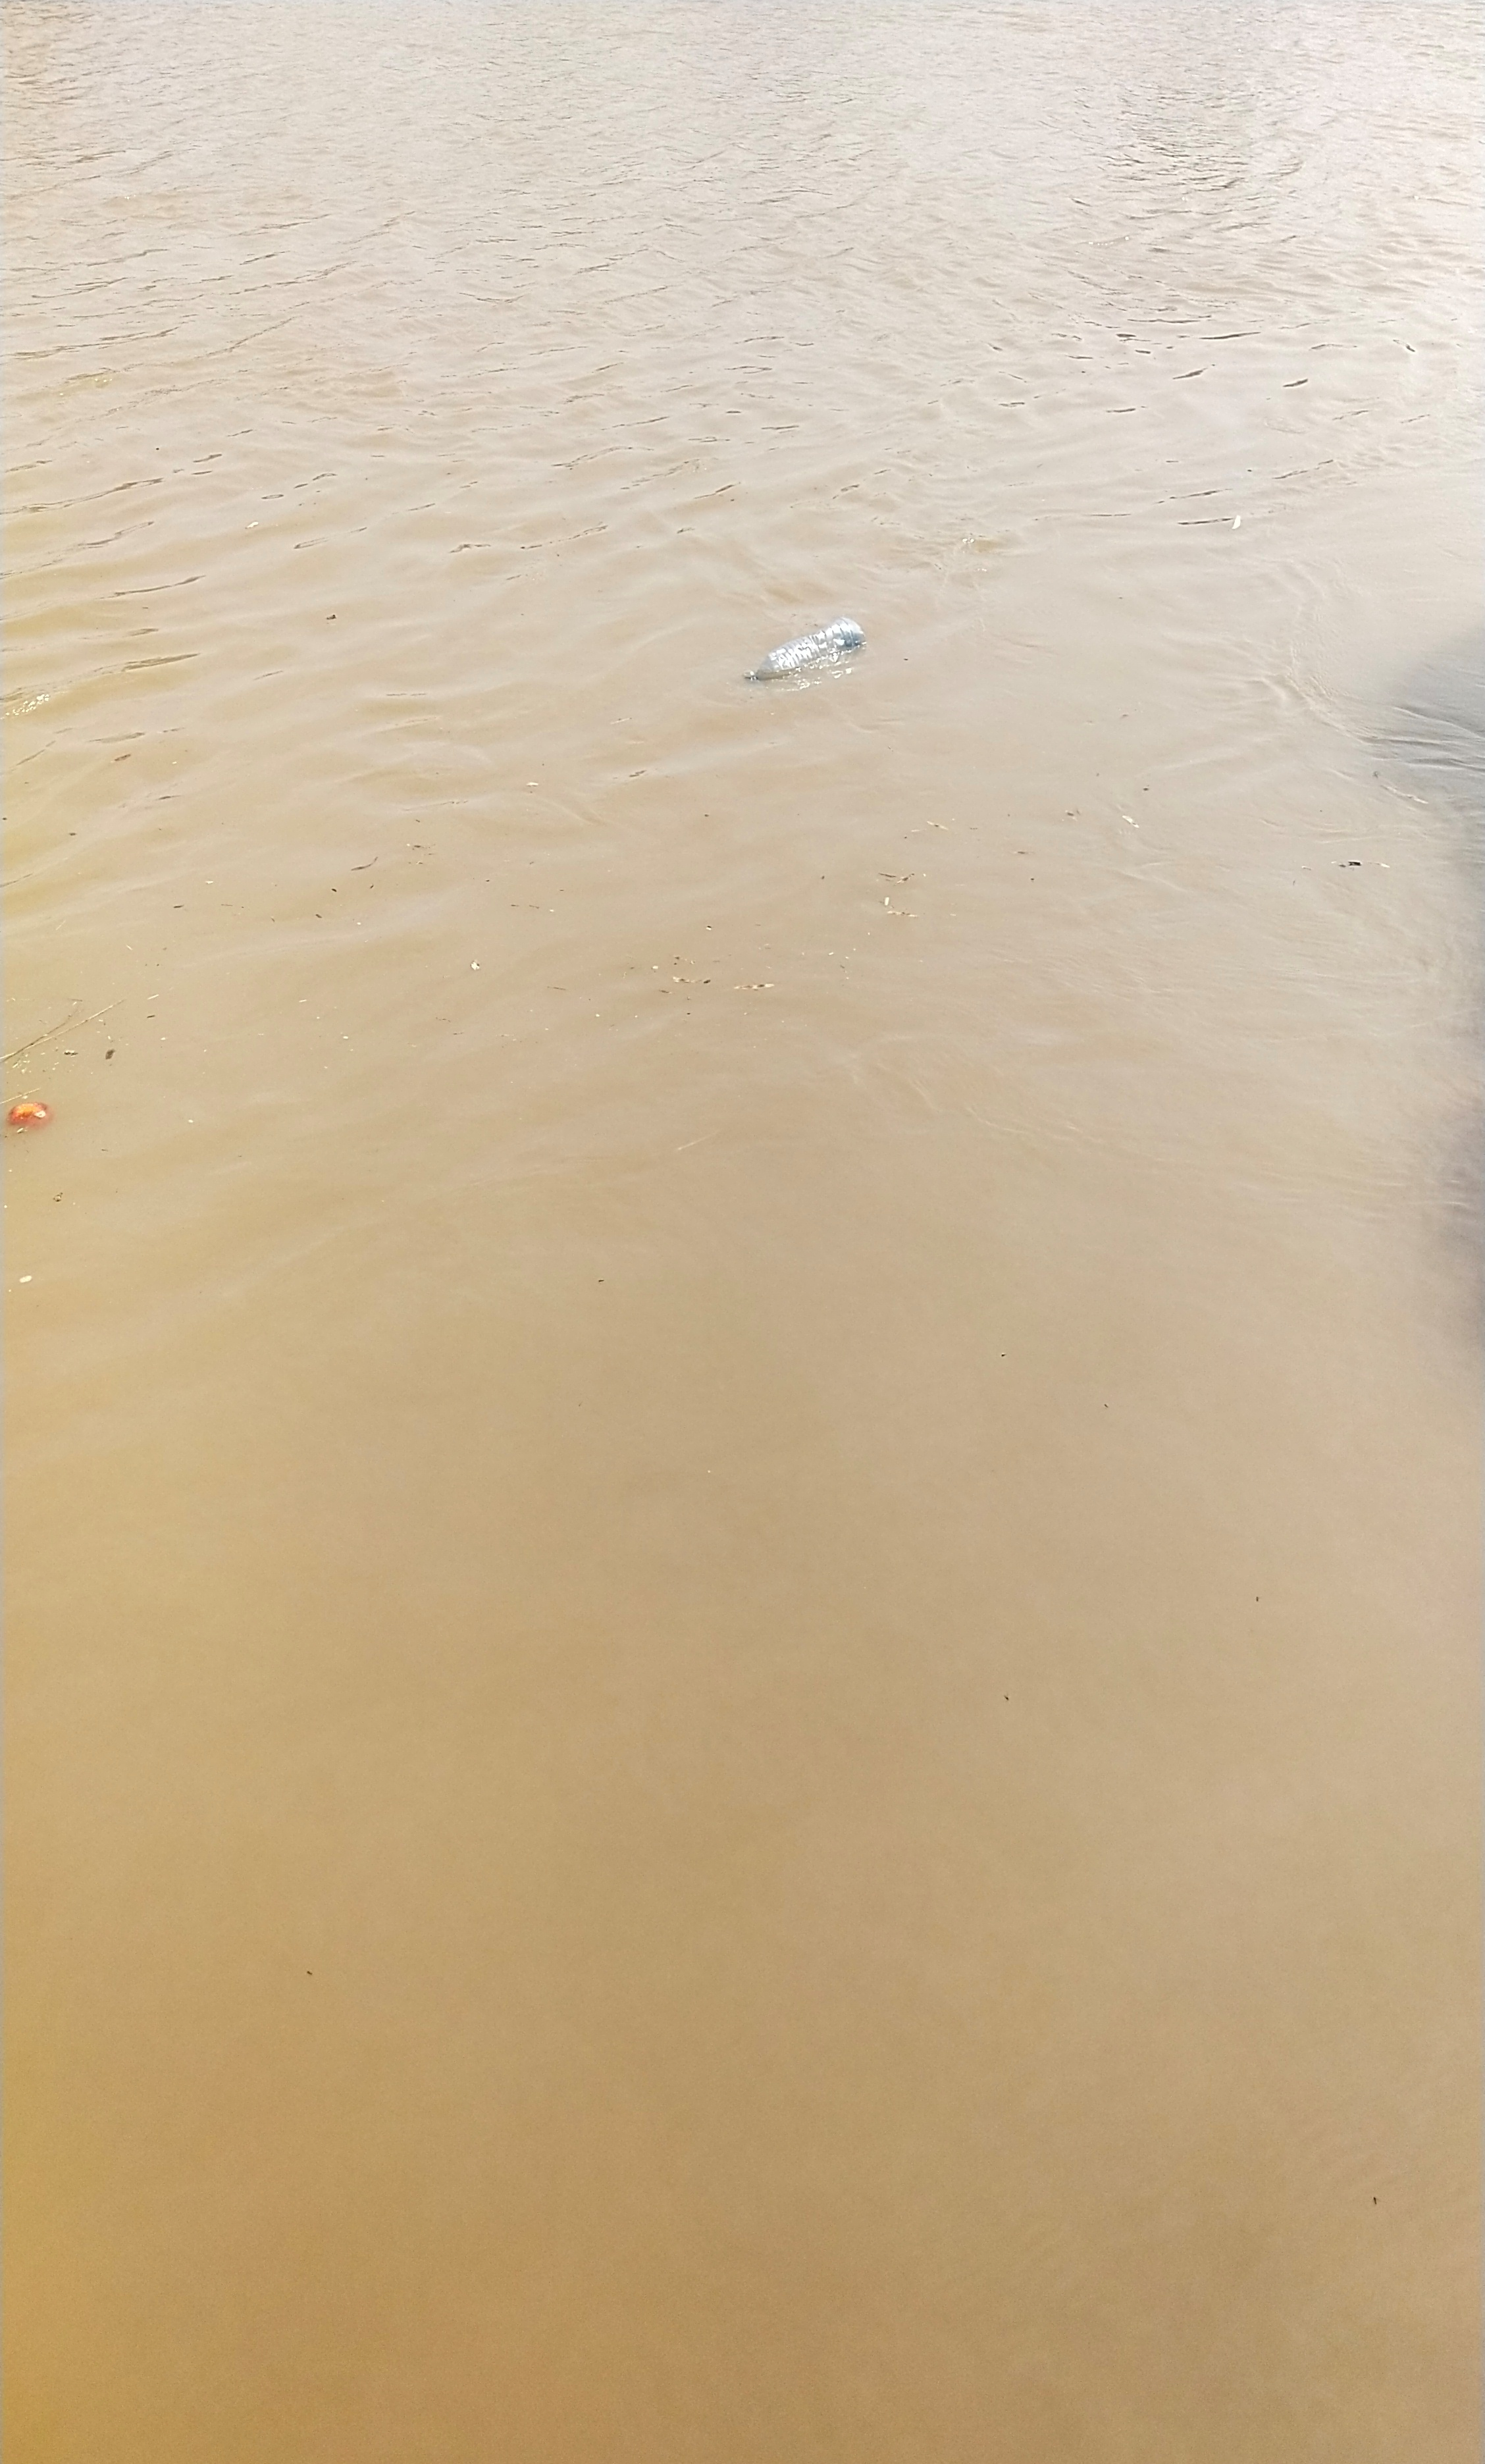Plastic Bottle: (744, 616, 866, 679)
